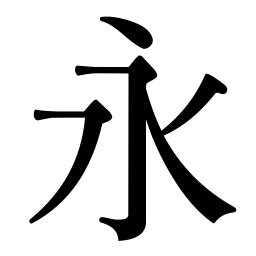D: (97, 12, 157, 49)
HSZ: (121, 53, 159, 94)
Hs: (73, 59, 112, 79)
Ne: (197, 195, 239, 226)
PNc: (149, 110, 180, 152)
PZe: (27, 201, 54, 226)
Ps: (195, 71, 230, 101)
SG: (96, 205, 150, 242)
Sm: (125, 157, 149, 186)
TPZ: (72, 97, 113, 149)
Ts: (32, 107, 59, 122)
